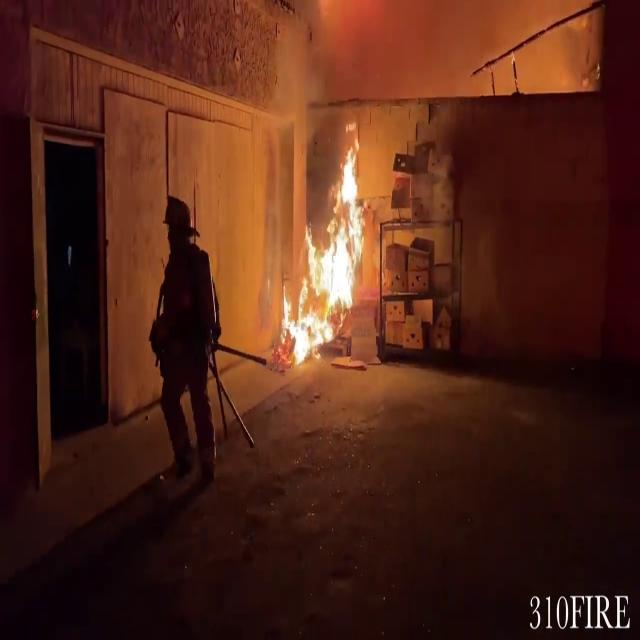Fire: (282, 128, 368, 364)
